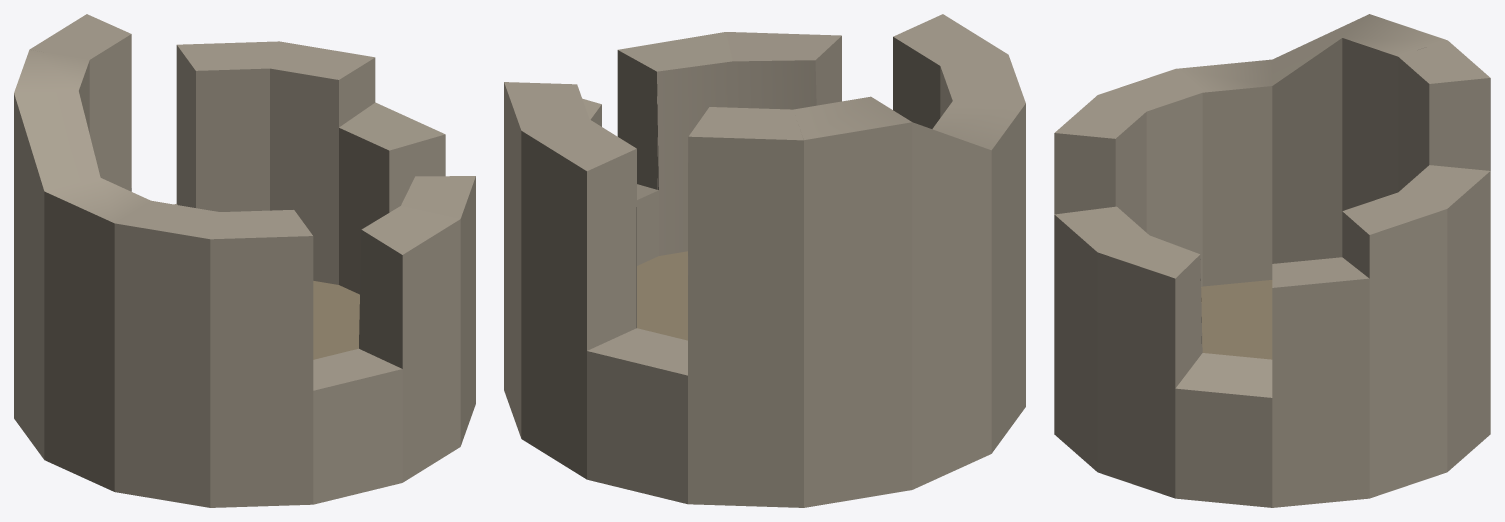
Rendered from suppo_destructed.fbx.
3 views of the same model, side by side, from view 1: azimuth 30°, elevation 25°; view 2: azimuth 150°, elevation 25°; view 3: azimuth 270°, elevation 25° (orthographic). The views are drawn at different scales.
Visible parts, largest first — view 1: supo; view 2: supo; view 3: supo.
Part boxes in pixels (bbox=[...]): supo: bbox=[14, 14, 475, 507]; supo: bbox=[504, 14, 1025, 507]; supo: bbox=[1054, 14, 1490, 507].
Bounding box in the file's own units: 2 × 1.55 × 1.95.
